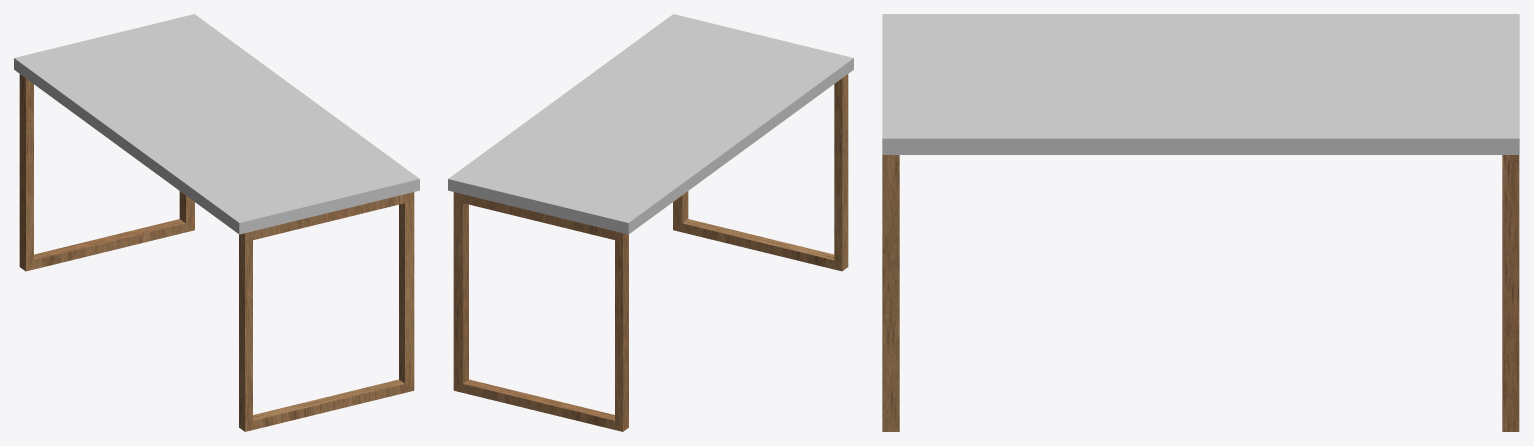
File: table2.glb
3 views of the same model, side by side, from view 1: azimuth 30°, elevation 25°; view 2: azimuth 150°, elevation 25°; view 3: azimuth 270°, elevation 25° (orthographic). The views are drawn at different scales.
Visible parts, largest first — view 1: Cube.001, Plane.003; view 2: Cube.001, Plane.003; view 3: Cube.001, Plane.003.
Boxes of the visible parts, x1,y1,x2,y2 form: Cube.001: (14, 14, 419, 234); Plane.003: (19, 74, 414, 431); Cube.001: (448, 14, 853, 234); Plane.003: (453, 74, 848, 431); Cube.001: (882, 14, 1519, 154); Plane.003: (882, 155, 1519, 431).
Bounding box in the file's own units: 1.89 × 2.11 × 4.09.
2 materials, 1 textured.
